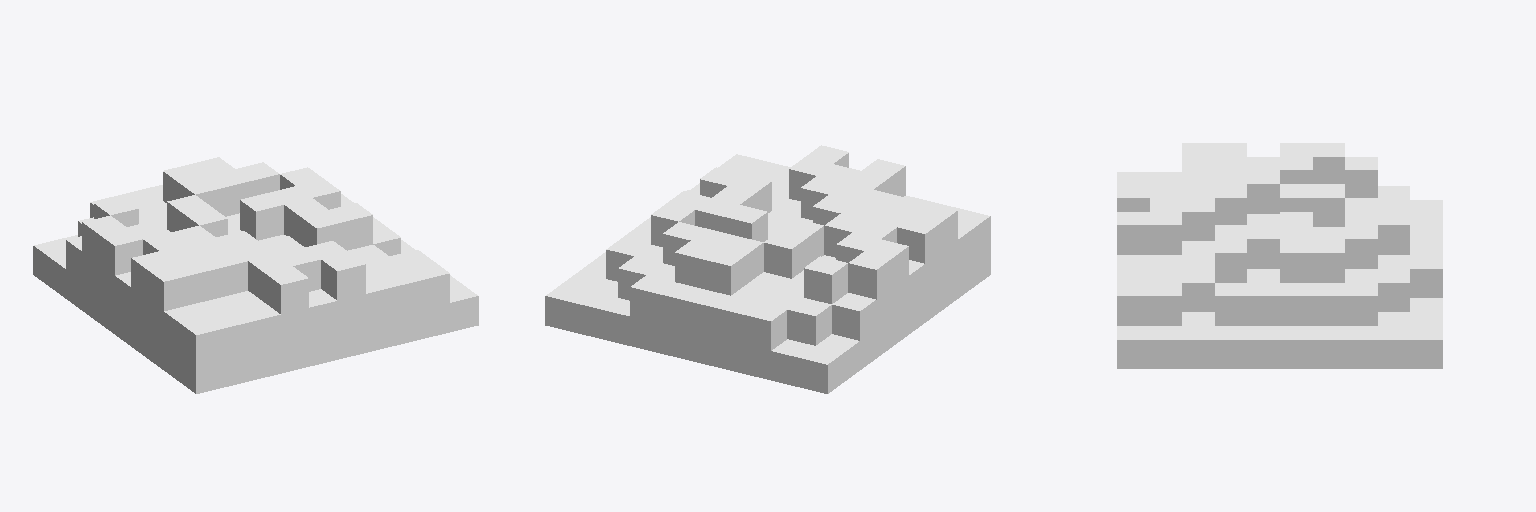
File: terrain-rock1.obj
3 renders of one model, left to right at view 1: azimuth 30°, elevation 25°; view 2: azimuth 150°, elevation 25°; view 3: azimuth 270°, elevation 25°, orthographic.
Size of the model in its own units: 40 by 12 by 40.